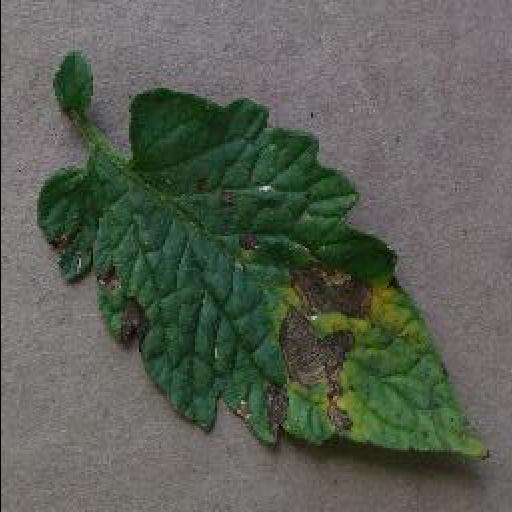disease_tomato: (42, 87, 488, 459)
